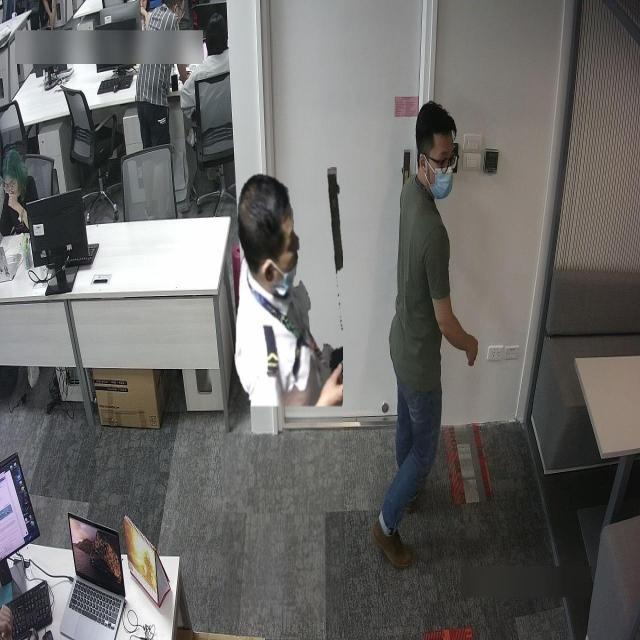hairnet: (268, 218, 300, 295)
